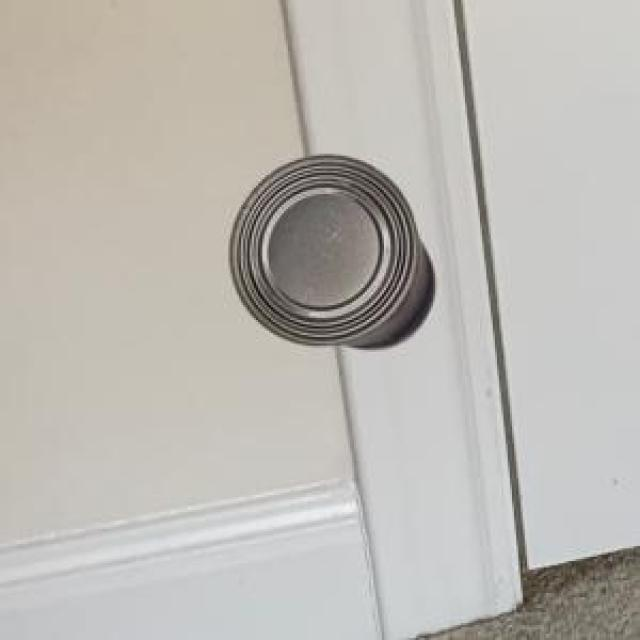Can: (227, 153, 432, 347)
